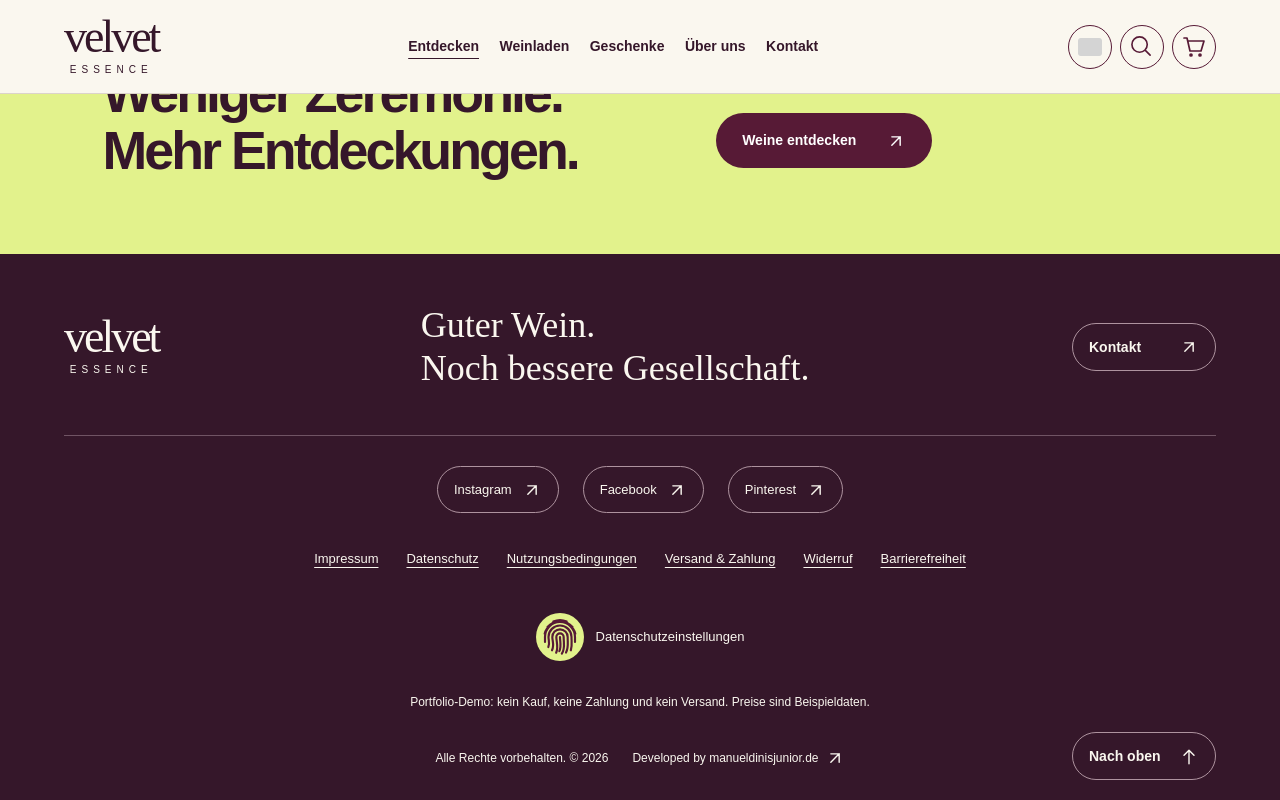
Scenario: privacy dialog opens from footer and closes without accepting optional tracking
(page scrolled)
Click the button "Datenschutzeinstellungen" at (640, 637), box [536,605,744,669]
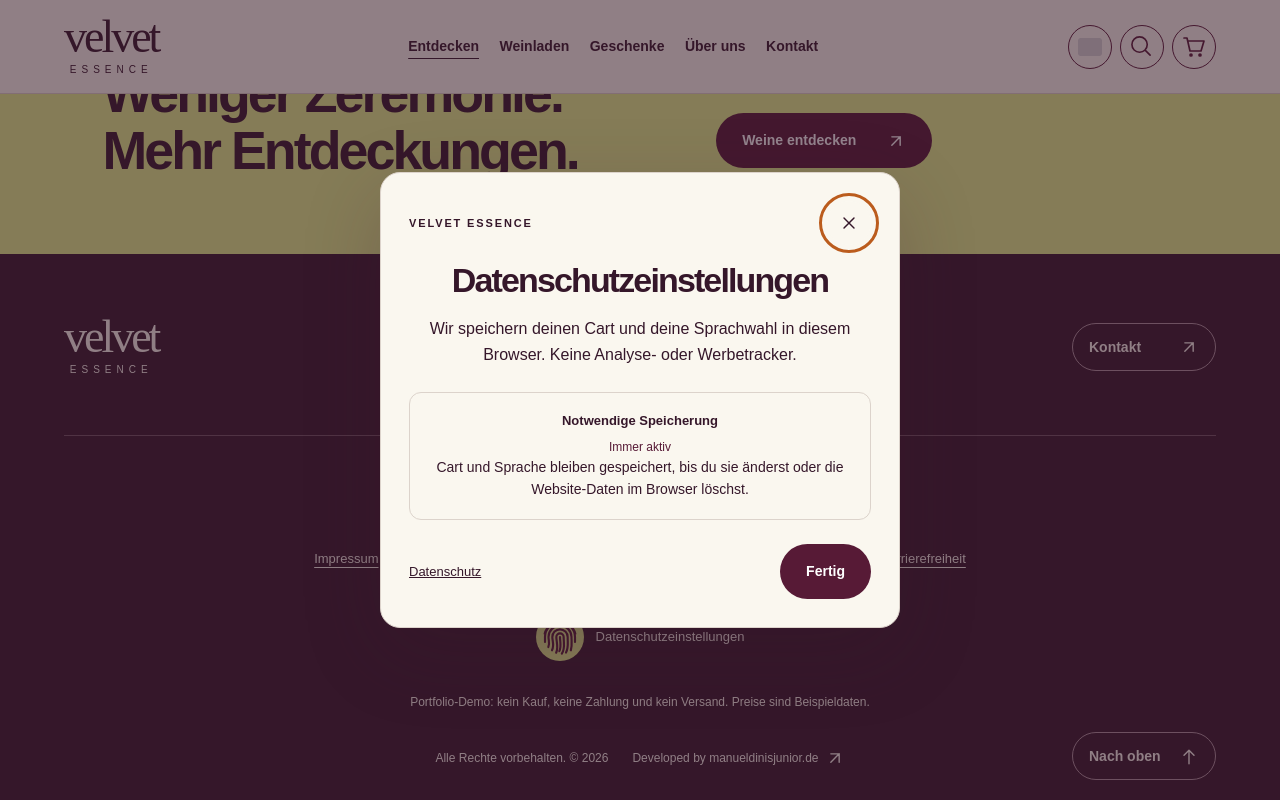
Result: the text "Keine Analyse- oder Werbetracker" is shown at [430,320,850,363]
Click the button "Fertig" at (826, 571), box [780,544,871,599]
(page scrolled)
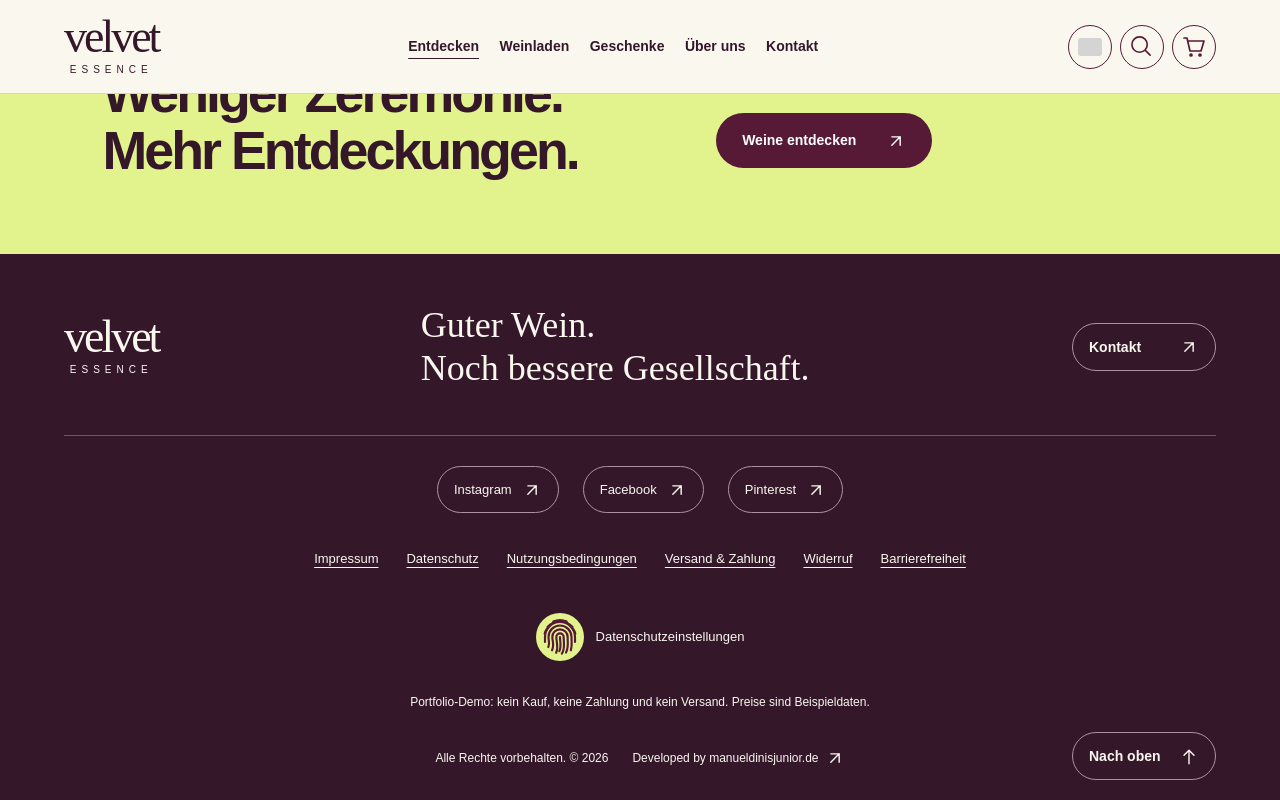
Result: the dialog is gone
